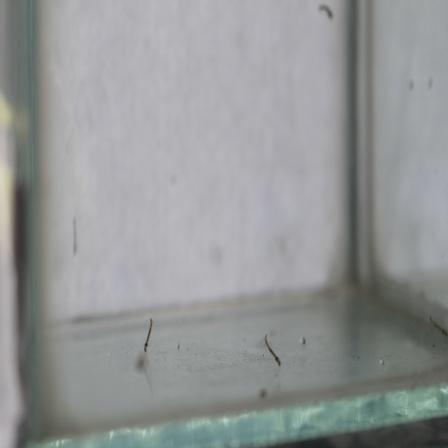Jentik-Nyamuk: (258, 332, 285, 372), (138, 312, 157, 357)
